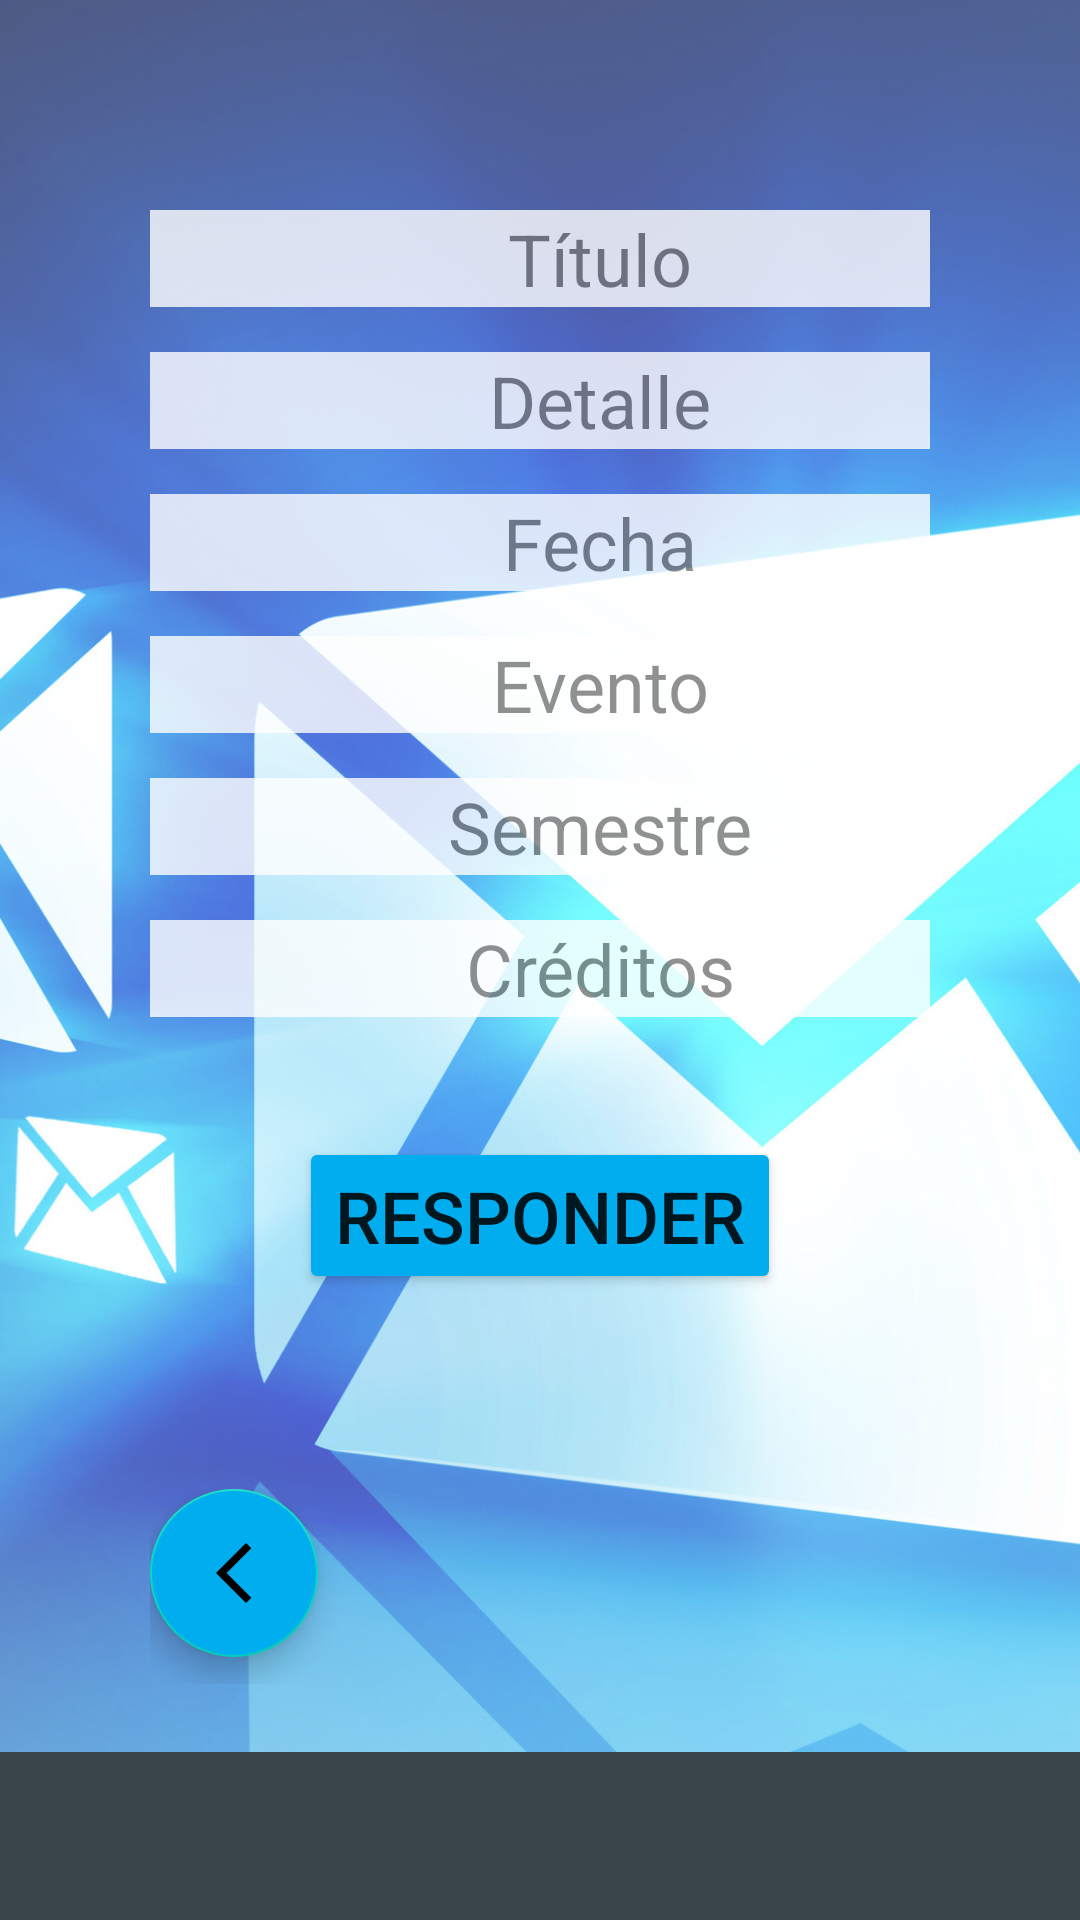

Screen size 1080×1920. Icon name, then its center in pixels as (x=x, y=y):
volver: (x=234, y=1573)
